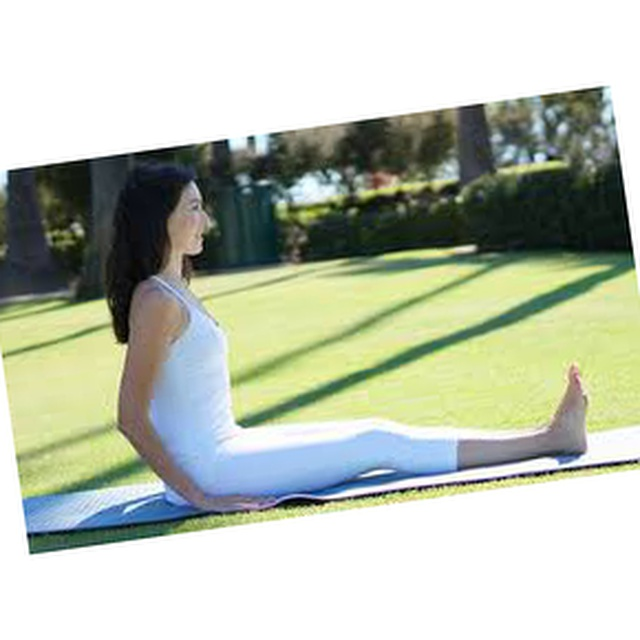Staff_Pose: (105, 160, 591, 515)
